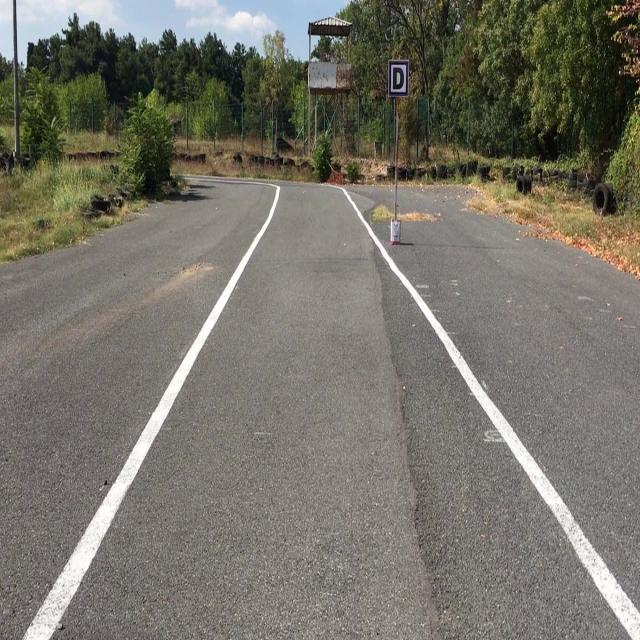durak: (390, 61, 408, 95)
